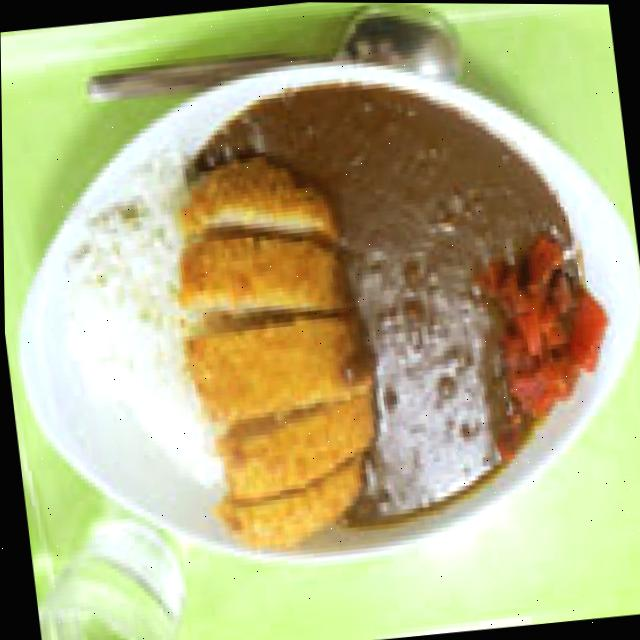猪肉菜式: (0, 0, 640, 384)
